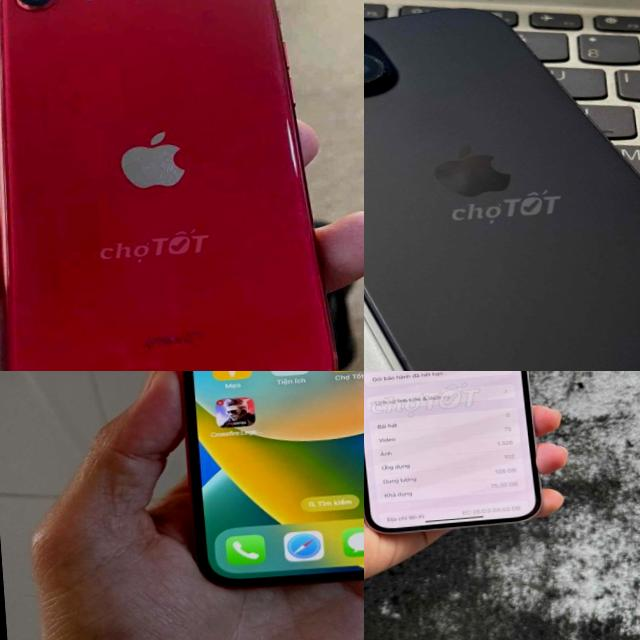scratch: (280, 114, 302, 180)
